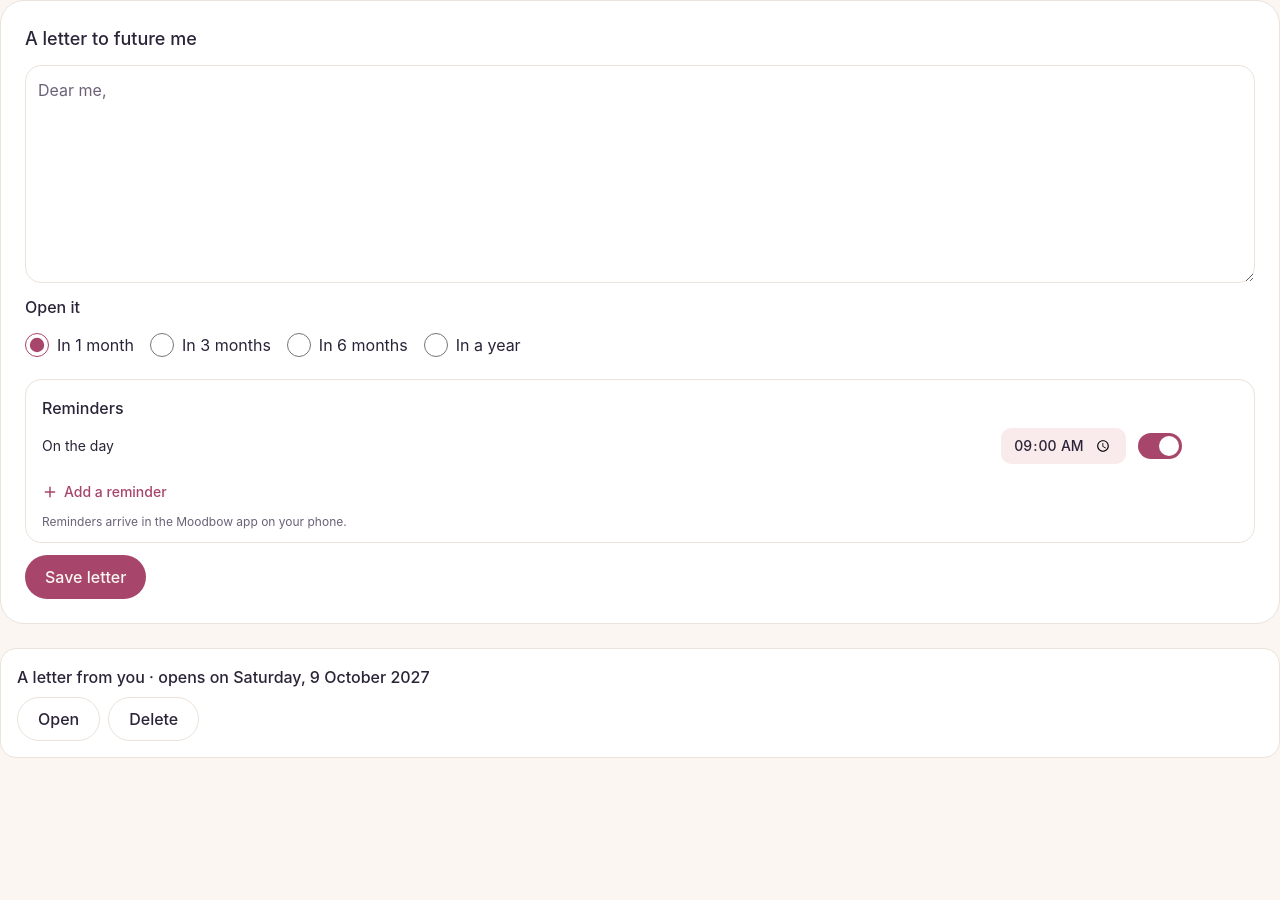
Scenario: LettersEditor: a letter opened from Me is matched too (the Reviewer, #267) › its text matches: the help card opens, and help sits above the letter
Click the button with test id "letter-open". click: (59, 719)
box: [17,697,100,741]
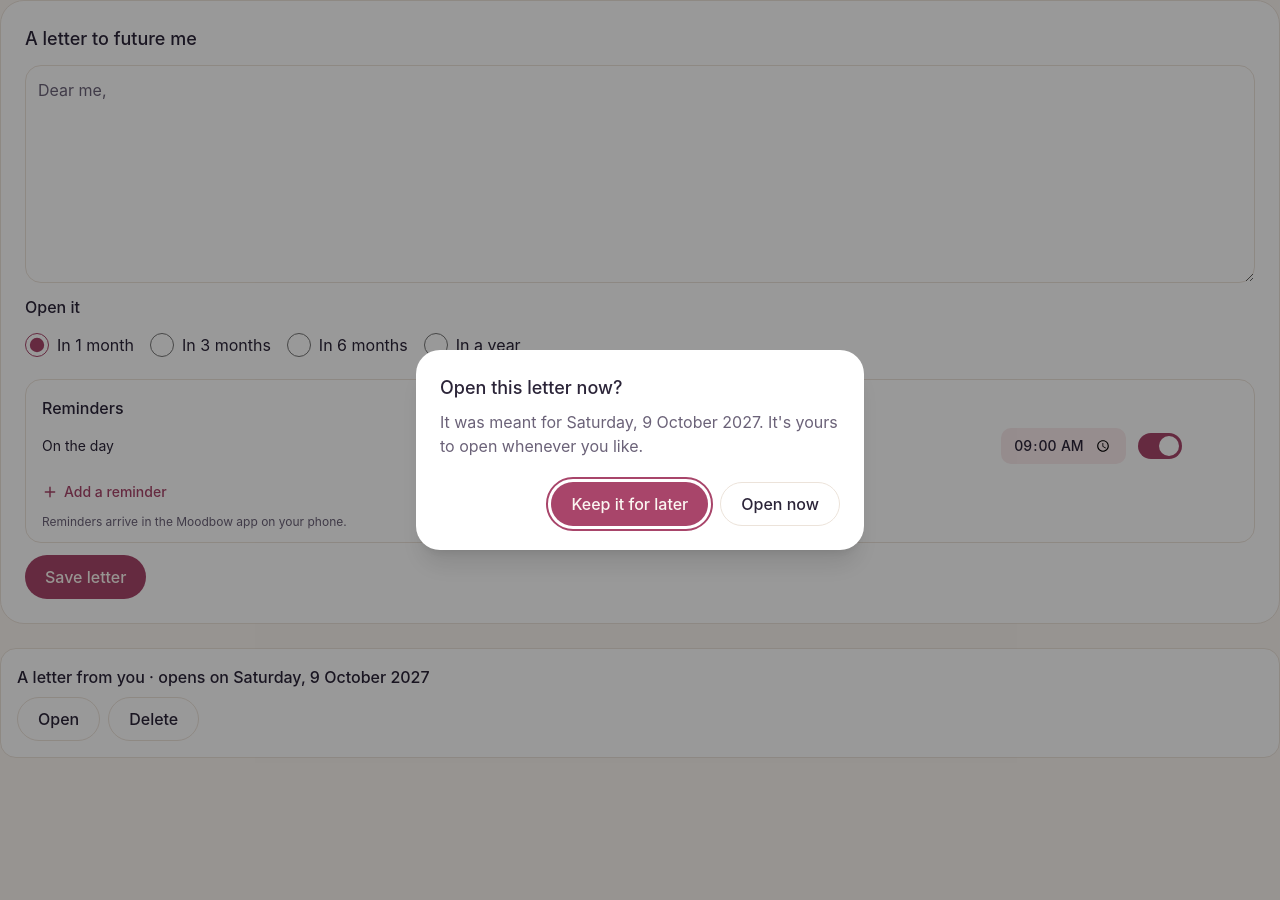
Click the button with test id "letter-open-now". click: (780, 504)
box: [720,482,840,526]
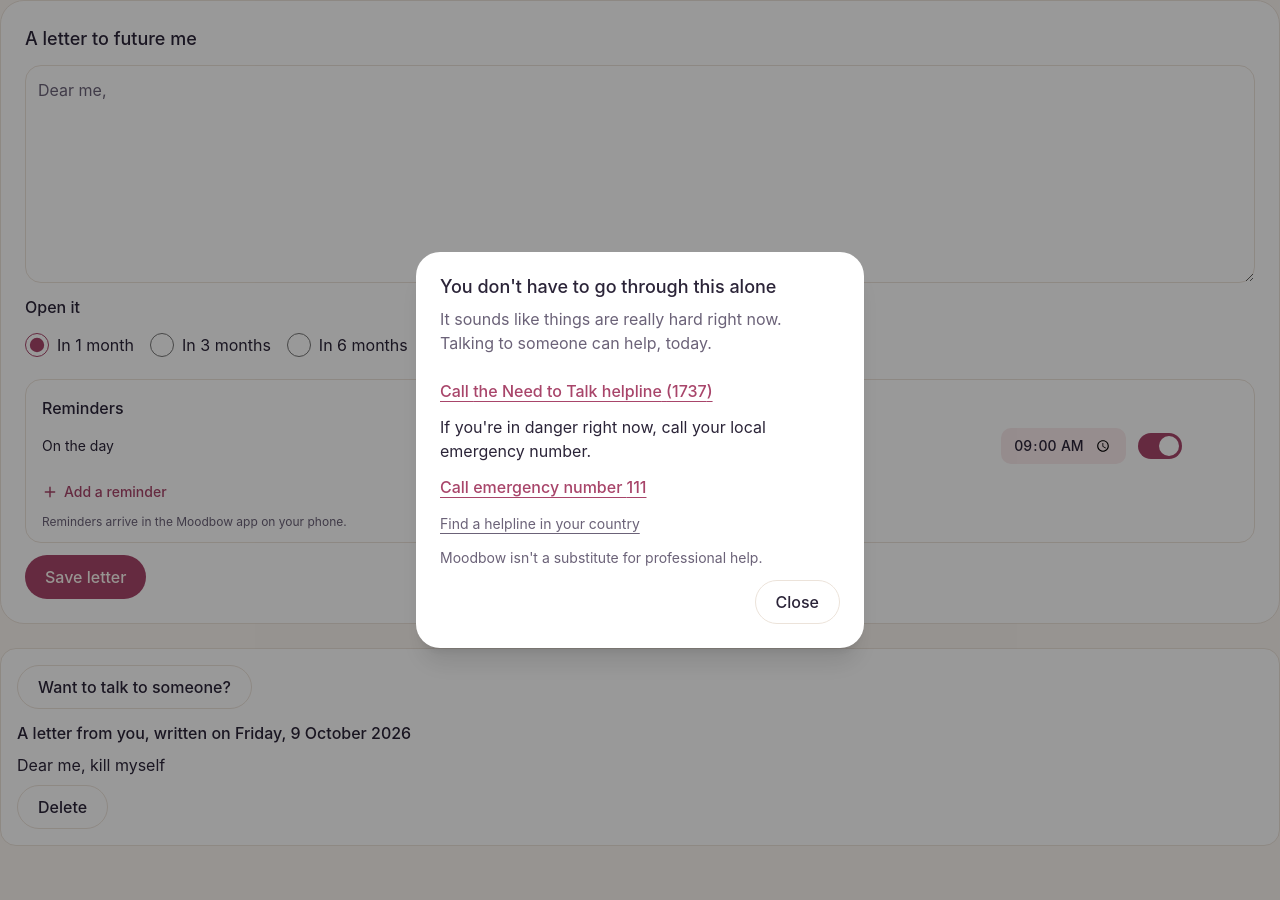
Expected: the dialog with test id "safety-card" is shown, [416,252,864,648]
